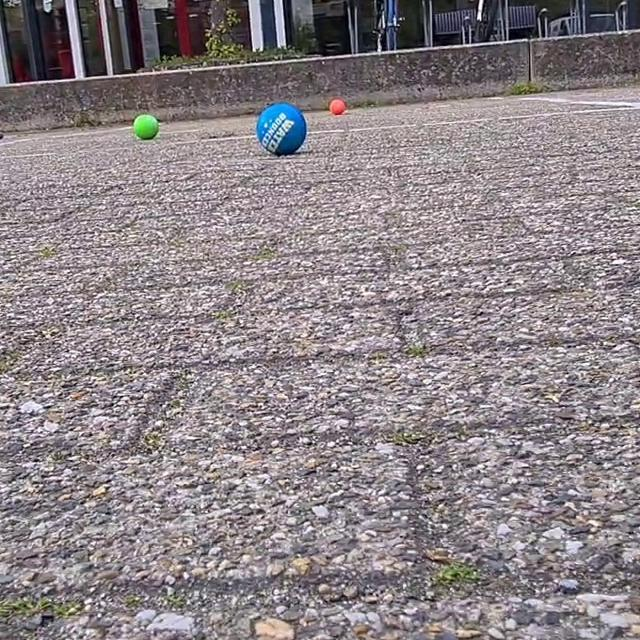ball: (132, 110, 160, 145)
